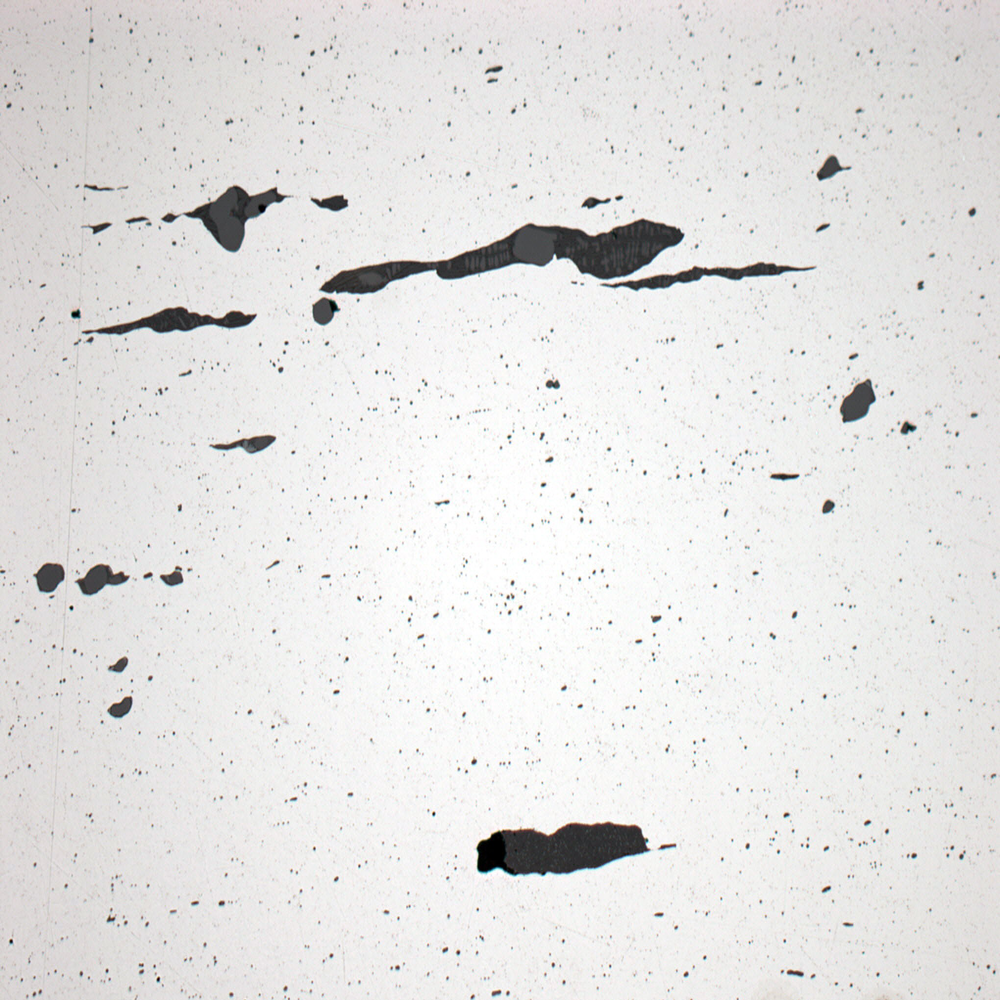crack: (299, 219, 815, 298), (45, 170, 379, 247), (453, 818, 720, 883), (807, 353, 937, 450), (33, 536, 203, 608), (65, 303, 267, 340), (196, 424, 291, 463)
